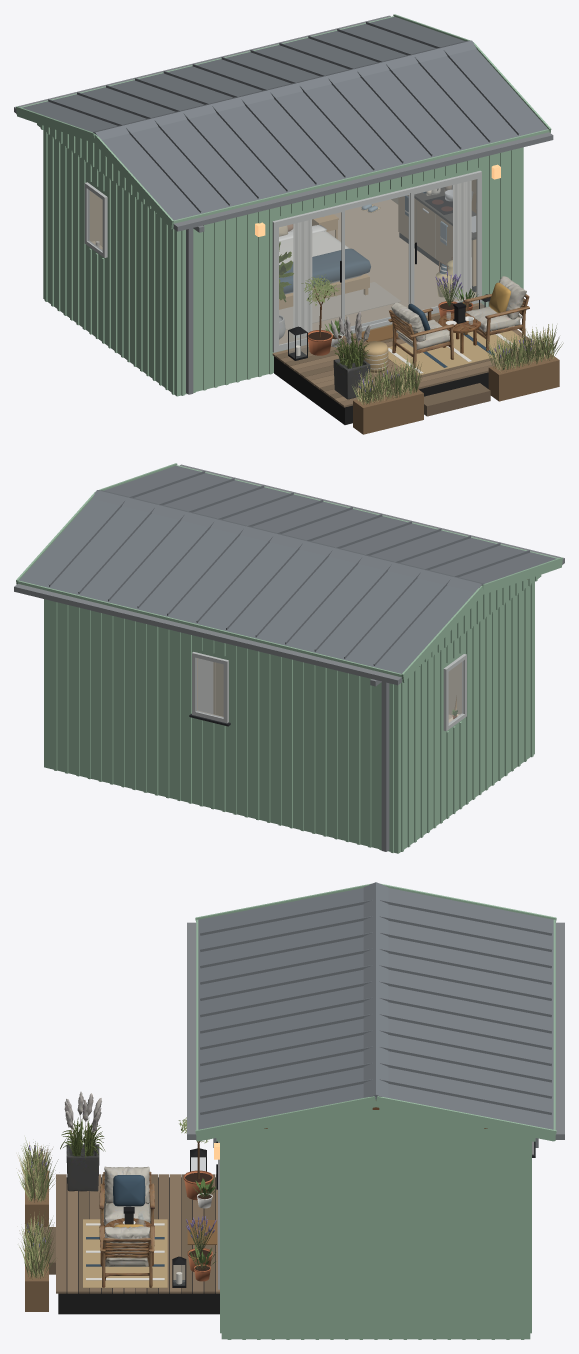
Rendered from sirius24.glb.
3 renders of one model, top to bottom at view 1: azimuth 30°, elevation 25°; view 2: azimuth 150°, elevation 25°; view 3: azimuth 270°, elevation 25°, orthographic. The views are drawn at different scales.
Visible parts, largest first — view 1: Couverture bac acier, Coque, Vitrages, Couvre-joints, Sol · sol, Menuiseries, Déco terrasse · bois, Rives de toit, Déco pièce de vie · lin_blanc, Gouttière avant, Jupe bardage, Déco terrasse · graminee (+23 smaller); view 2: Couverture bac acier, Coque, Couvre-joints, Jupe bardage, Rives de toit, Gouttière arrière, Vitrages dépolis, Menuiseries, Pignons, Descente arrière, Porte WC · blanc, Gouttière avant (+1 smaller); view 3: Couverture bac acier, Coque, Couvre-joints, Rives de toit, Pignons, Jupe bardage, Terrasse ossature, Terrasse lames 1, Terrasse lames 0, tripo_node_c5f71bd8-d07d-47cd-9ae9-853787fe0c50, Déco terrasse · jute, Terrasse lames 2 (+11 smaller).
Part boxes in pixels (left/top/right/bottom): Couverture bac acier: left=22, top=16, right=547, bottom=220; Coque: left=43, top=132, right=523, bottom=375; Vitrages: left=279, top=179, right=476, bottom=344; Couvre-joints: left=44, top=134, right=514, bottom=395; Sol · sol: left=279, top=199, right=476, bottom=344; Menuiseries: left=84, top=170, right=481, bottom=352; Déco terrasse · bois: left=353, top=353, right=559, bottom=434; Rives de toit: left=16, top=14, right=551, bottom=229; Déco pièce de vie · lin_blanc: left=293, top=181, right=471, bottom=337; Gouttière avant: left=173, top=132, right=553, bottom=231; Jupe bardage: left=43, top=278, right=522, bottom=396; Déco terrasse · graminee: left=352, top=324, right=563, bottom=404; Couverture bac acier: left=19, top=465, right=556, bottom=673; Coque: left=44, top=583, right=534, bottom=832; Couvre-joints: left=54, top=586, right=533, bottom=852; Jupe bardage: left=44, top=733, right=534, bottom=853; Rives de toit: left=16, top=463, right=562, bottom=682; Gouttière arrière: left=14, top=584, right=401, bottom=685; Vitrages dépolis: left=196, top=658, right=463, bottom=723; Menuiseries: left=192, top=652, right=466, bottom=731; Pignons: left=419, top=575, right=541, bottom=666; Descente arrière: left=381, top=681, right=389, bottom=851; Porte WC · blanc: left=197, top=658, right=213, bottom=713; Gouttière avant: left=180, top=464, right=564, bottom=564; Couverture bac acier: left=198, top=882, right=553, bottom=1129; Coque: left=221, top=1146, right=530, bottom=1315; Couvre-joints: left=220, top=1141, right=531, bottom=1339; Rives de toit: left=195, top=883, right=556, bottom=1141; Pignons: left=216, top=1108, right=535, bottom=1142; Jupe bardage: left=221, top=1315, right=530, bottom=1339; Terrasse ossature: left=58, top=1177, right=219, bottom=1314; Terrasse lames 1: left=33, top=1174, right=214, bottom=1293; Terrasse lames 0: left=56, top=1174, right=203, bottom=1293; tripo_node_c5f71bd8-d07d-47cd-9ae9-853787fe0c50: left=60, top=1091, right=105, bottom=1191; Déco terrasse · jute: left=83, top=1219, right=167, bottom=1287; Terrasse lames 2: left=67, top=1174, right=219, bottom=1293.
Bounding box in the file's own units: 6.56 × 3.63 × 7.14.
95 materials, 10 textured.
